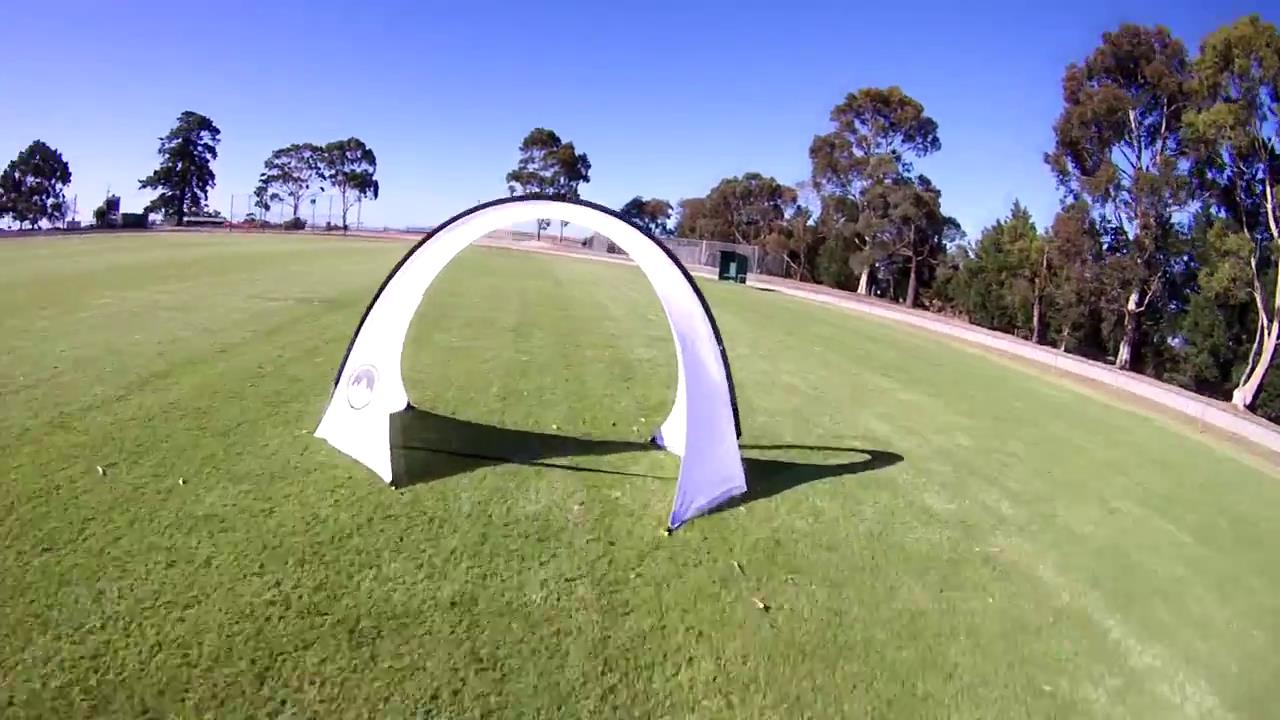gate: (306, 191, 755, 530)
